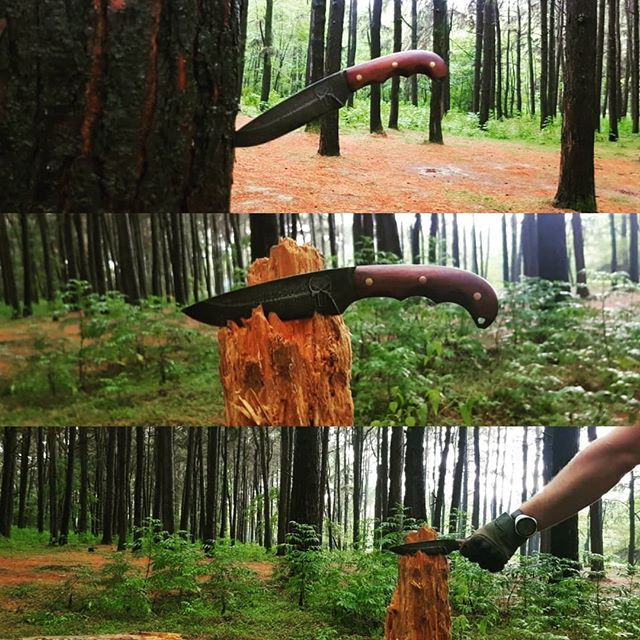knife: (233, 49, 448, 147), (180, 264, 499, 329), (390, 538, 468, 556)
